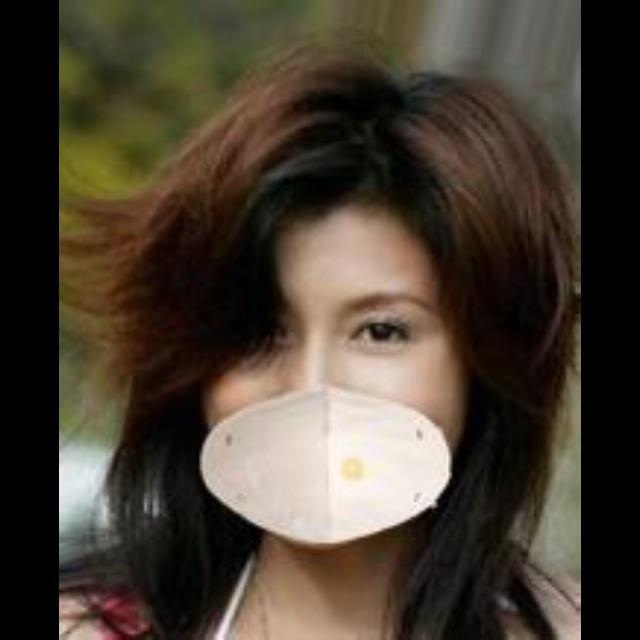suspicion: (161, 79, 489, 583)
